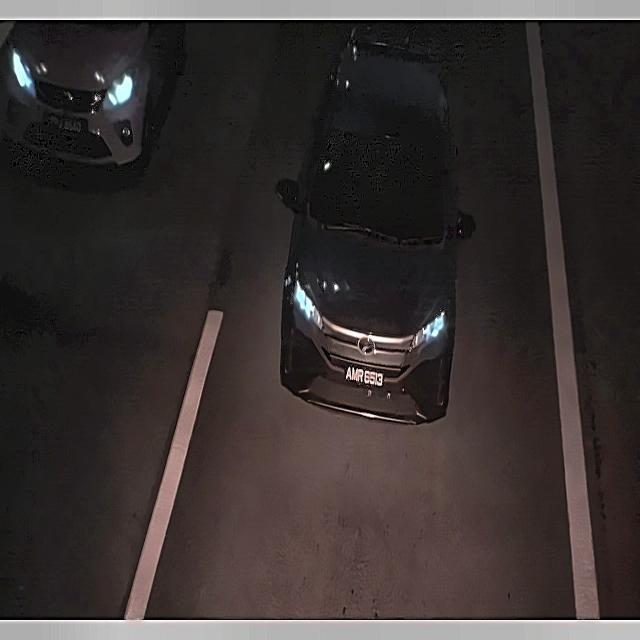car: (35, 100, 94, 148), (341, 357, 388, 397)
